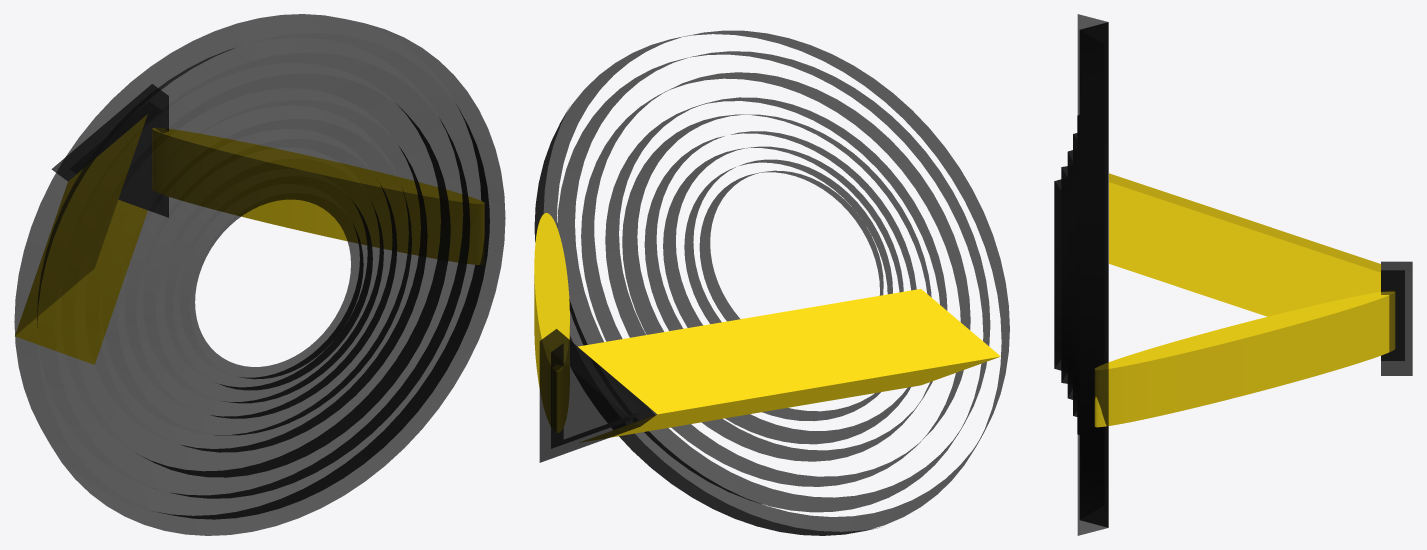
The model's file is disk.gltf.
3 views of the same model, side by side, from view 1: azimuth 30°, elevation 25°; view 2: azimuth 150°, elevation 25°; view 3: azimuth 270°, elevation 25° (orthographic). The views are drawn at different scales.
Visible parts, largest first — view 1: mesh15_meshnode_15, mesh20_meshnode_20, mesh18_meshnode_18, mesh1_meshnode_1, mesh16_meshnode_16, mesh17_meshnode_17, mesh14_meshnode_14, mesh19_meshnode_19, mesh24_meshnode_24, mesh22_meshnode_22, mesh21_meshnode_21, mesh23_meshnode_23 (+14 smaller); view 2: mesh4_meshnode_4, mesh15_meshnode_15, mesh17_meshnode_17, mesh19_meshnode_19, mesh21_meshnode_21, mesh23_meshnode_23, mesh5_meshnode_5, mesh3_meshnode_3, mesh25_meshnode_25, mesh2_meshnode_2, mesh13_meshnode_13, mesh27_meshnode_27 (+9 smaller); view 3: mesh3_meshnode_3, mesh1_meshnode_1, mesh15_meshnode_15, mesh17_meshnode_17, mesh2_meshnode_2, mesh7_meshnode_7, mesh27_meshnode_27, mesh31_meshnode_31, mesh29_meshnode_29, mesh4_meshnode_4, mesh25_meshnode_25, mesh11_meshnode_11 (+5 smaller).
Boxes of the visible parts, <box> form: mesh15_meshnode_15: <box>14,14,489,518</box>; mesh20_meshnode_20: <box>74,73,450,477</box>; mesh18_meshnode_18: <box>55,52,470,498</box>; mesh1_meshnode_1: <box>152,129,484,264</box>; mesh16_meshnode_16: <box>37,33,489,519</box>; mesh17_meshnode_17: <box>37,37,469,497</box>; mesh14_meshnode_14: <box>43,19,505,535</box>; mesh19_meshnode_19: <box>61,63,449,476</box>; mesh24_meshnode_24: <box>117,119,411,435</box>; mesh22_meshnode_22: <box>99,99,427,452</box>; mesh21_meshnode_21: <box>85,88,426,451</box>; mesh23_meshnode_23: <box>102,105,411,435</box>; mesh4_meshnode_4: <box>578,289,1000,414</box>; mesh15_meshnode_15: <box>534,30,1009,535</box>; mesh17_meshnode_17: <box>557,51,990,512</box>; mesh19_meshnode_19: <box>581,72,970,486</box>; mesh21_meshnode_21: <box>605,97,947,461</box>; mesh23_meshnode_23: <box>622,114,931,444</box>; mesh5_meshnode_5: <box>539,341,640,462</box>; mesh3_meshnode_3: <box>583,357,998,441</box>; mesh25_meshnode_25: <box>644,131,916,420</box>; mesh2_meshnode_2: <box>534,213,569,371</box>; mesh13_meshnode_13: <box>551,353,629,448</box>; mesh27_meshnode_27: <box>663,146,903,327</box>; mesh3_meshnode_3: <box>1109,182,1380,316</box>; mesh1_meshnode_1: <box>1094,292,1395,427</box>; mesh15_meshnode_15: <box>1079,22,1108,527</box>; mesh17_meshnode_17: <box>1081,45,1104,504</box>; mesh2_meshnode_2: <box>1095,291,1394,369</box>; mesh7_meshnode_7: <box>1381,261,1412,375</box>; mesh27_meshnode_27: <box>1067,149,1077,400</box>; mesh31_meshnode_31: <box>1054,178,1067,371</box>; mesh29_meshnode_29: <box>1061,165,1072,384</box>; mesh4_meshnode_4: <box>1109,173,1381,272</box>; mesh25_meshnode_25: <box>1073,132,1079,417</box>; mesh11_meshnode_11: <box>1381,270,1404,360</box>.
Bounding box in the file's own units: 0.2102 × 0.21 × 0.1442.
